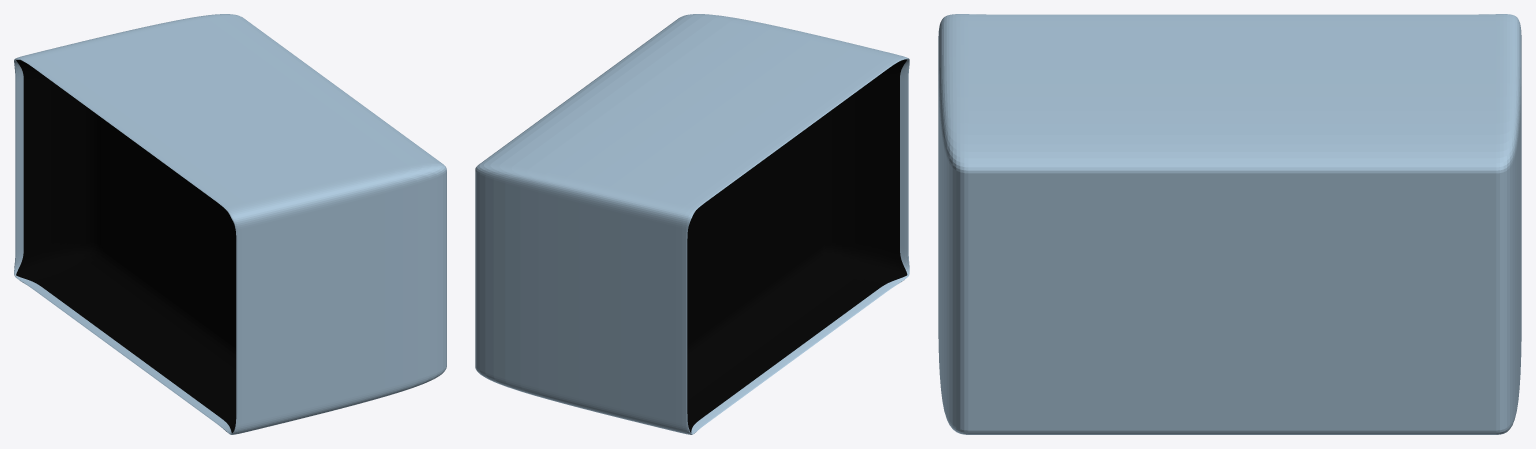
Rendered from visor.dae.
3 views of the same model, side by side, from view 1: azimuth 30°, elevation 25°; view 2: azimuth 150°, elevation 25°; view 3: azimuth 270°, elevation 25° (orthographic). The views are drawn at different scales.
Parts seen in each view (by area): view 1: eye_visor; view 2: eye_visor; view 3: eye_visor.
Part boxes in pixels (x1,y1,x2,y2): eye_visor: (14, 14, 446, 434); eye_visor: (475, 14, 909, 434); eye_visor: (938, 14, 1521, 434).
Size of the model in its own units: 0.682 by 1.18 by 0.6524.
